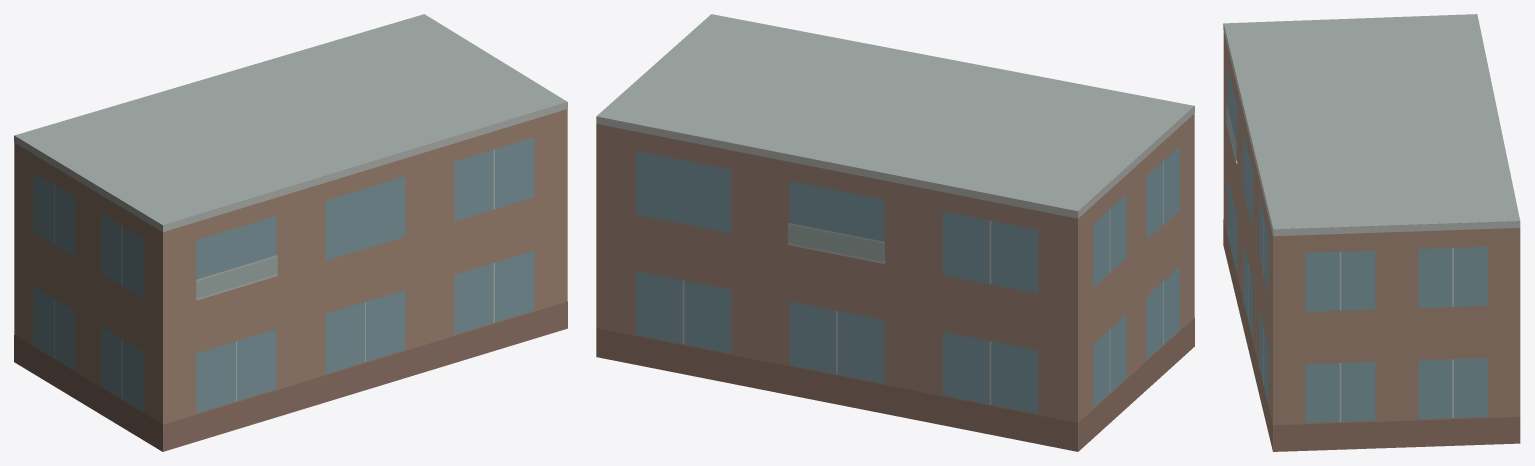
File: survey-upis-32638096.glb
3 renders of one model, left to right at view 1: azimuth 30°, elevation 25°; view 2: azimuth 150°, elevation 25°; view 3: azimuth 270°, elevation 25°, orthographic. The views are drawn at different scales.
Visible parts, largest first — view 1: survey-upis-32638096.tmp; view 2: survey-upis-32638096.tmp; view 3: survey-upis-32638096.tmp.
Boxes of the visible parts, x1,y1,x2,y2 form: survey-upis-32638096.tmp: (14, 14, 567, 451); survey-upis-32638096.tmp: (596, 14, 1194, 451); survey-upis-32638096.tmp: (1223, 14, 1520, 451).
Bounding box in the file's own units: 16.41 × 7.9 × 9.56.
